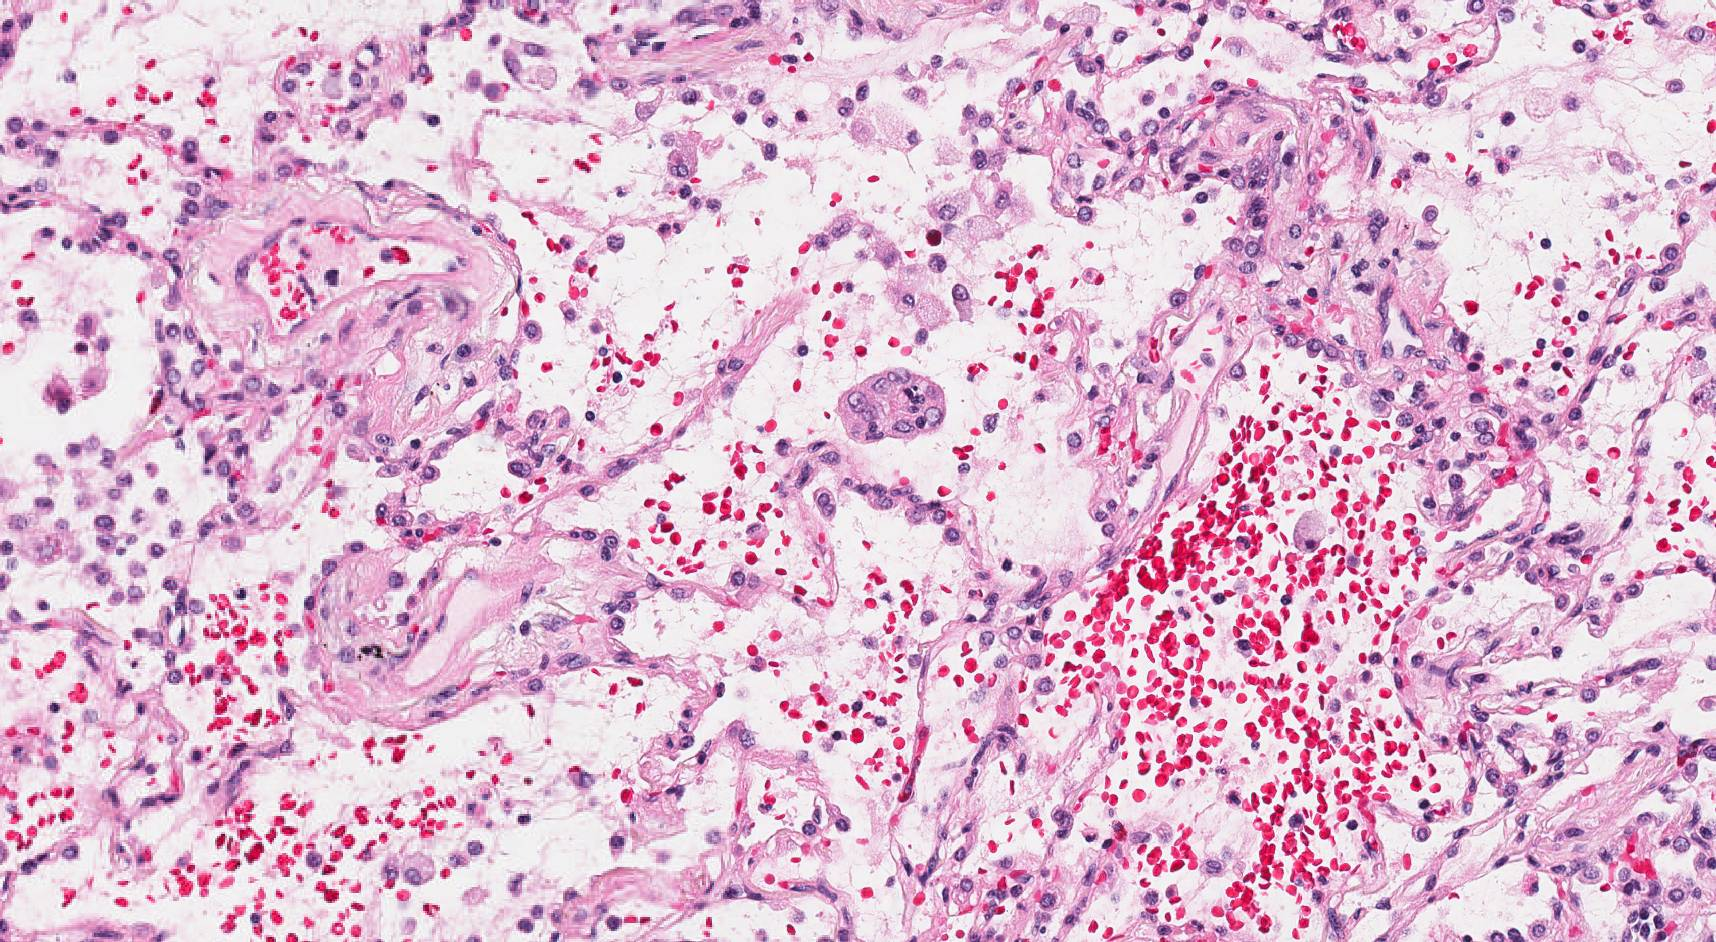stas: (840, 370, 947, 447), (505, 406, 569, 482)
